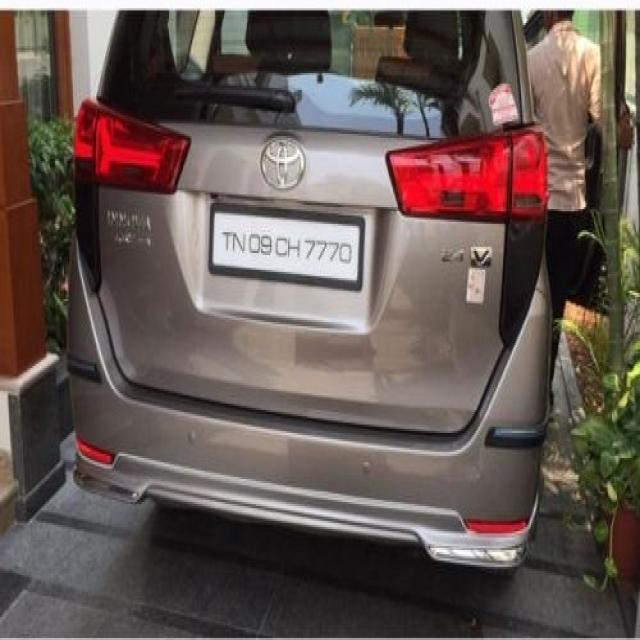number_plate: (208, 205, 364, 284)
